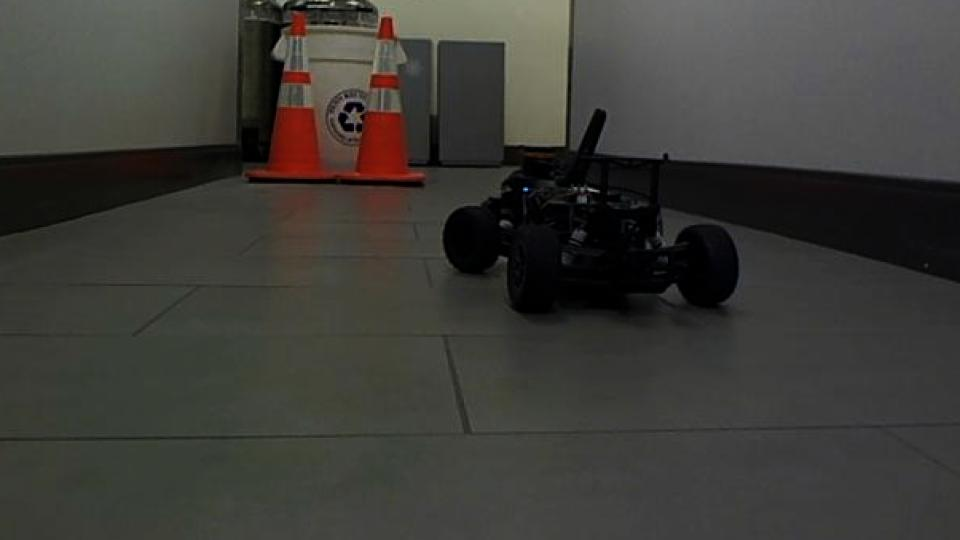car: (438, 106, 742, 316)
